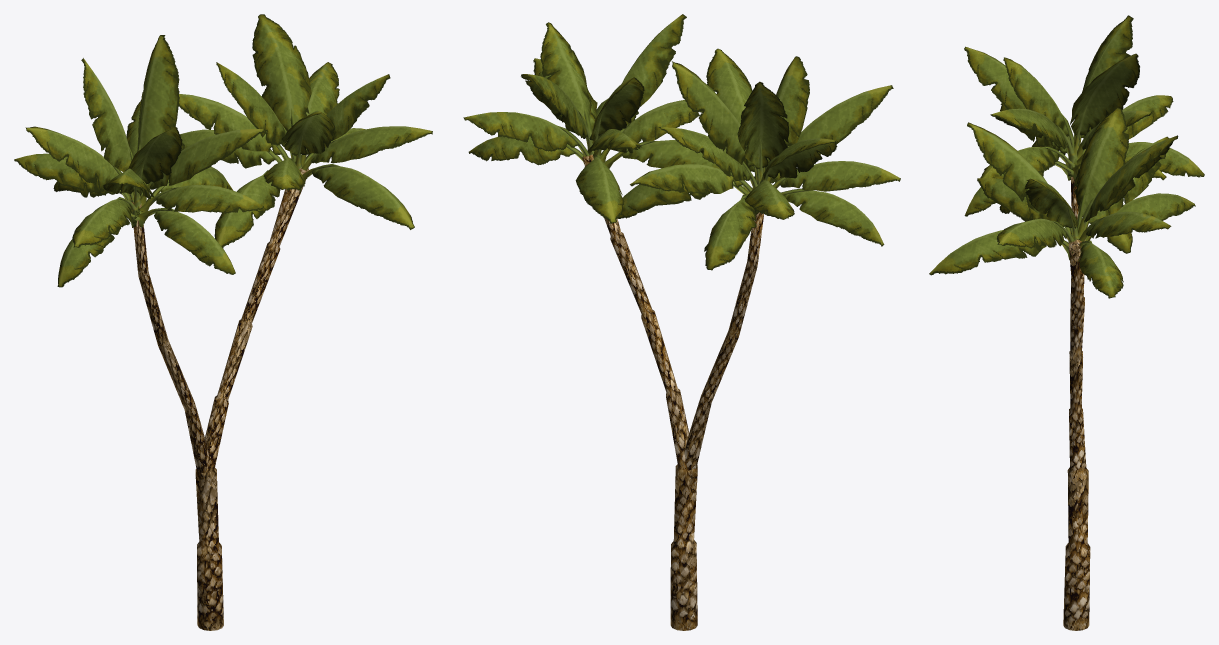
File: SM_TI_Palm_Tree_7.fbx
3 views of the same model, side by side, from view 1: azimuth 30°, elevation 25°; view 2: azimuth 150°, elevation 25°; view 3: azimuth 270°, elevation 25° (orthographic). The views are drawn at different scales.
Visible parts, largest first — view 1: SM_TI_Palm_Tree_7; view 2: SM_TI_Palm_Tree_7; view 3: SM_TI_Palm_Tree_7.
Part boxes in pixels (<box>): SM_TI_Palm_Tree_7: <box>14,14,432,630</box>; SM_TI_Palm_Tree_7: <box>463,14,900,630</box>; SM_TI_Palm_Tree_7: <box>929,15,1204,630</box>.
Bounding box in the file's own units: 4.63 × 3.08 × 6.94.
